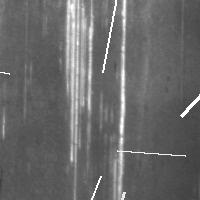scratches: (61, 1, 97, 166), (109, 1, 129, 198), (98, 0, 122, 77), (176, 44, 200, 121), (62, 171, 105, 200), (112, 146, 190, 161), (96, 187, 129, 200), (0, 57, 14, 79)
